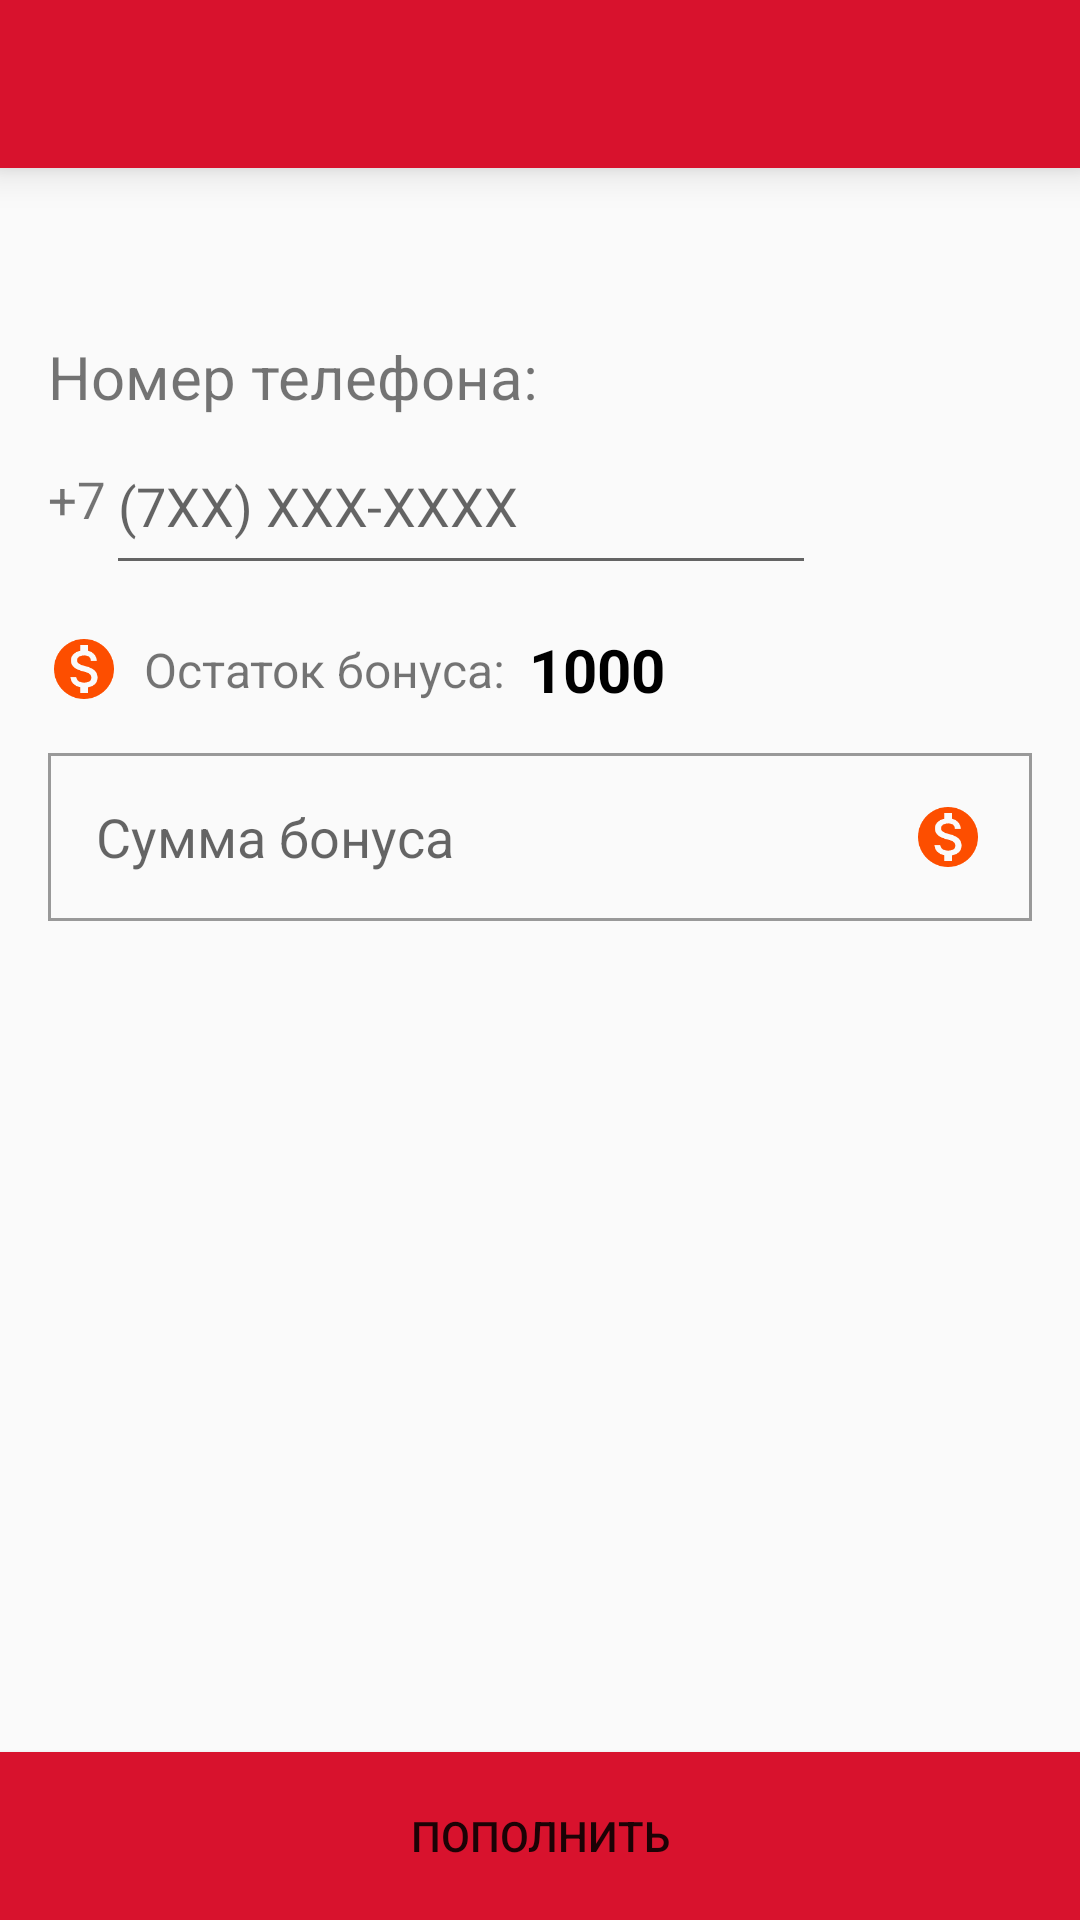

Screen size 1080 x 1920. Icon name, then its box in pixels as box=[x1, y1, x2, y2]:
monetization on: box=[54, 639, 114, 699]
